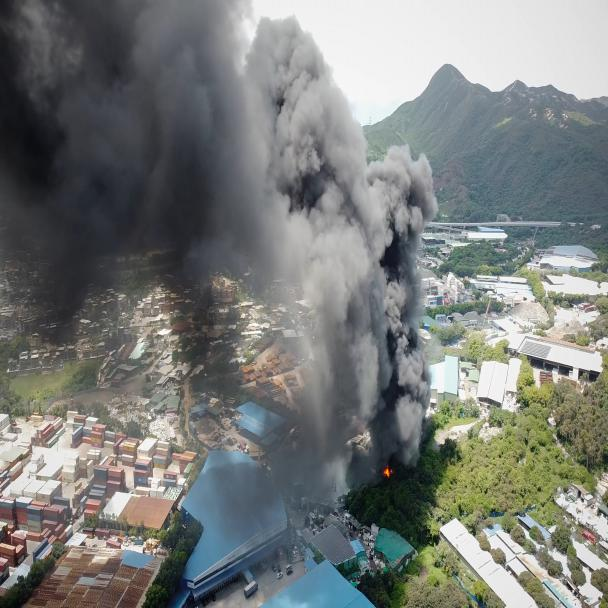Fire: (377, 462, 400, 490)
smoke: (5, 4, 435, 434)
